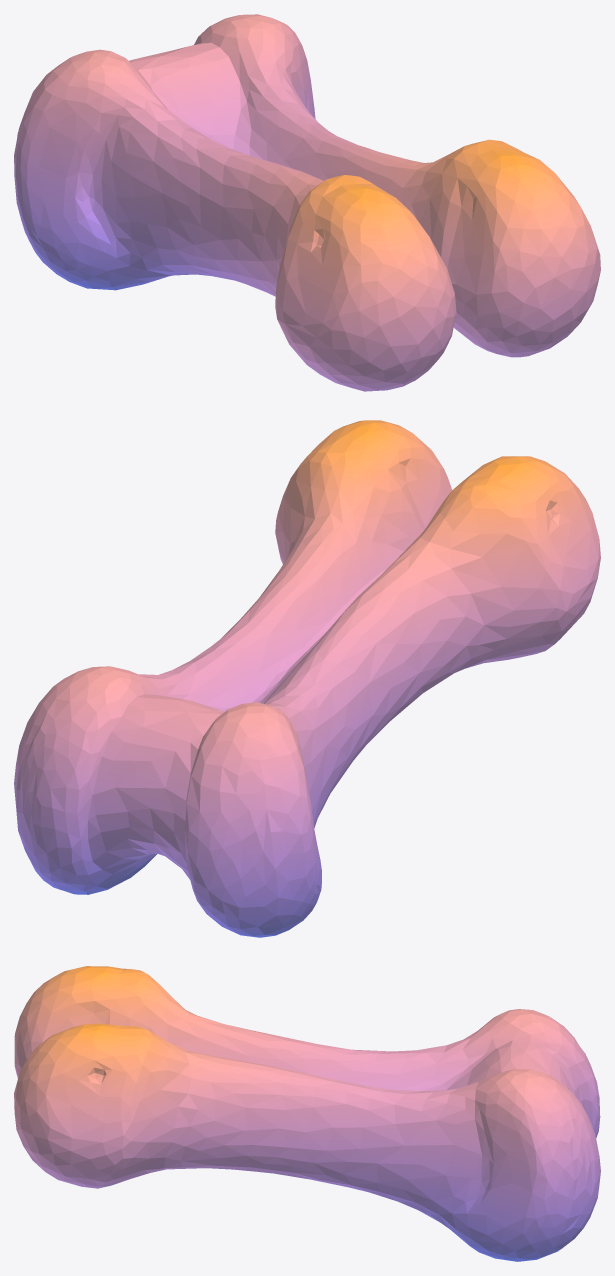
The model's file is 137_cyb_laser_gradient_fish_scales_2824_2026_10_03_710176.glb.
3 renders of one model, top to bottom at view 1: azimuth 30°, elevation 25°; view 2: azimuth 150°, elevation 25°; view 3: azimuth 270°, elevation 25°, orthographic. The views are drawn at different scales.
Parts seen in each view (by area): view 1: geometry_0; view 2: geometry_0; view 3: geometry_0.
Part boxes in pixels (x1=…): geometry_0: x1=14, y1=14, x2=600, y2=391; geometry_0: x1=14, y1=420, x2=600, y2=937; geometry_0: x1=14, y1=966, x2=600, y2=1261.
Bounding box in the file's own units: 0.4716 × 0.4206 × 1.
